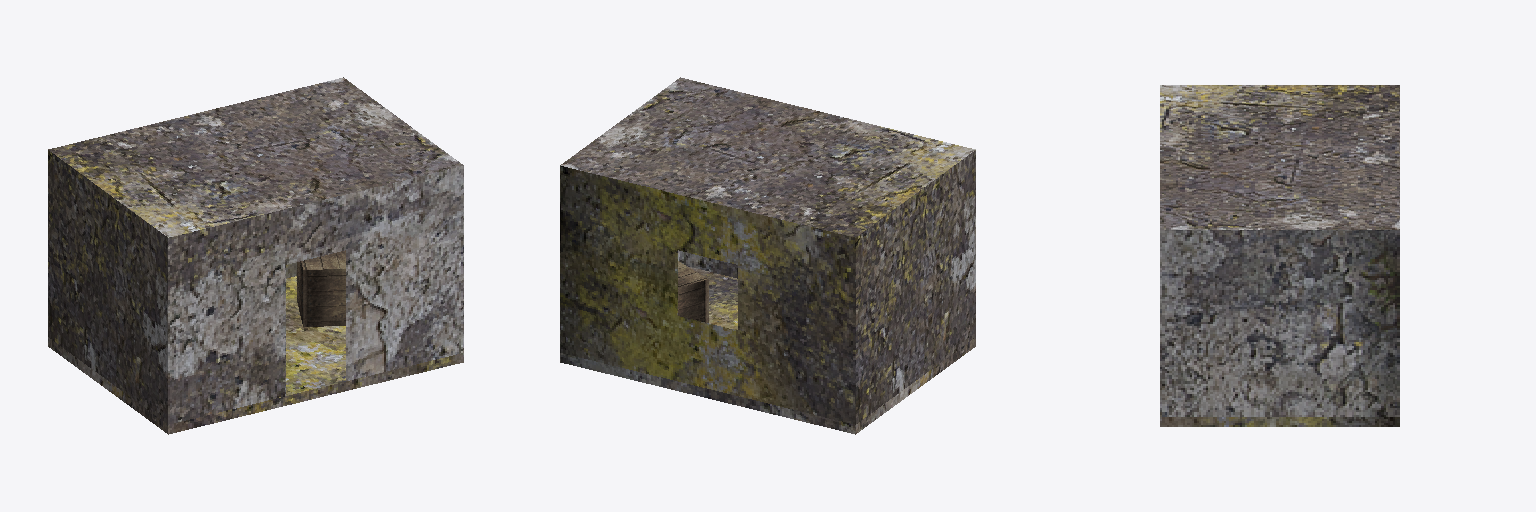
3 renders of one model, left to right at view 1: azimuth 30°, elevation 25°; view 2: azimuth 150°, elevation 25°; view 3: azimuth 270°, elevation 25°, orthographic.
Parts seen in each view (by area): view 1: House_Cube.001, Caisse_Cube.003; view 2: House_Cube.001, Caisse_Cube.003; view 3: House_Cube.001.
Part boxes in pixels (x1,y1,x2,y2): House_Cube.001: (48,77,463,434); Caisse_Cube.003: (297,250,345,326); House_Cube.001: (560,77,975,434); Caisse_Cube.003: (678,261,708,322); House_Cube.001: (1160,85,1399,426).
Bounding box in the file's own units: 9.93 × 6.31 × 7.
3 materials, 3 textured.